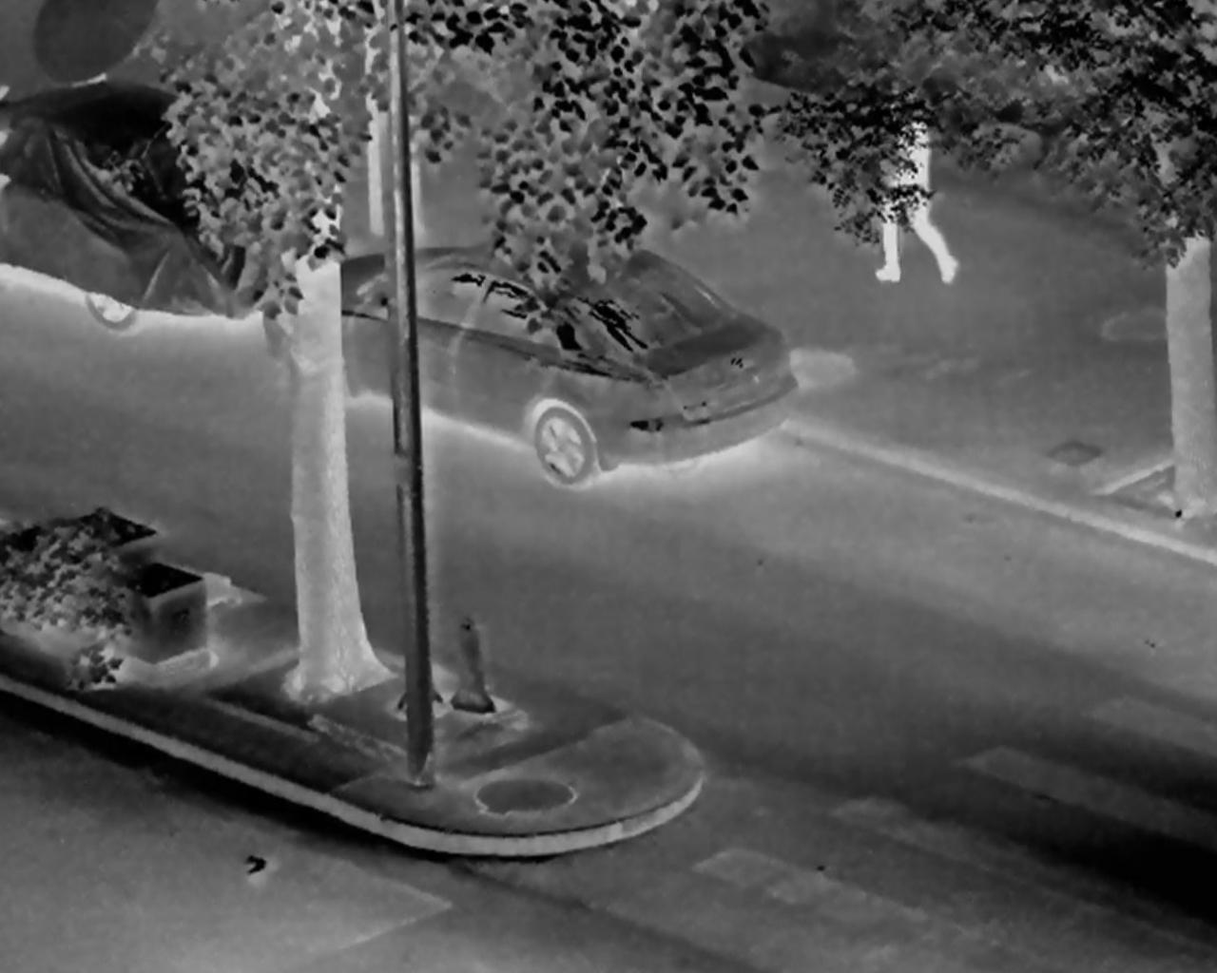person: (868, 90, 960, 285)
